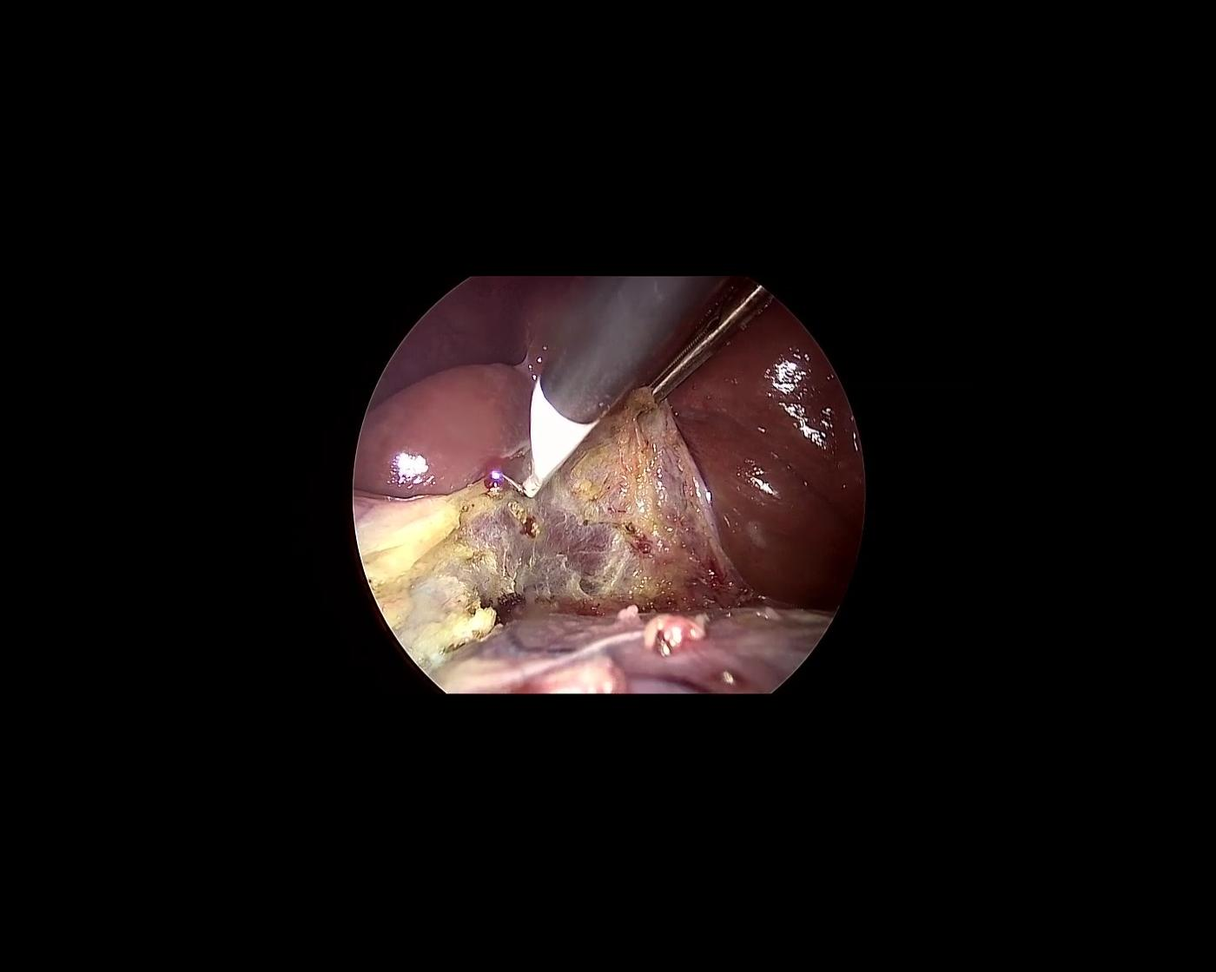Cautery: (452, 212, 729, 504)
Forceps: (632, 271, 774, 401)
Gallbladder: (333, 440, 551, 672)
Liver: (320, 256, 646, 547), (648, 290, 906, 638)
